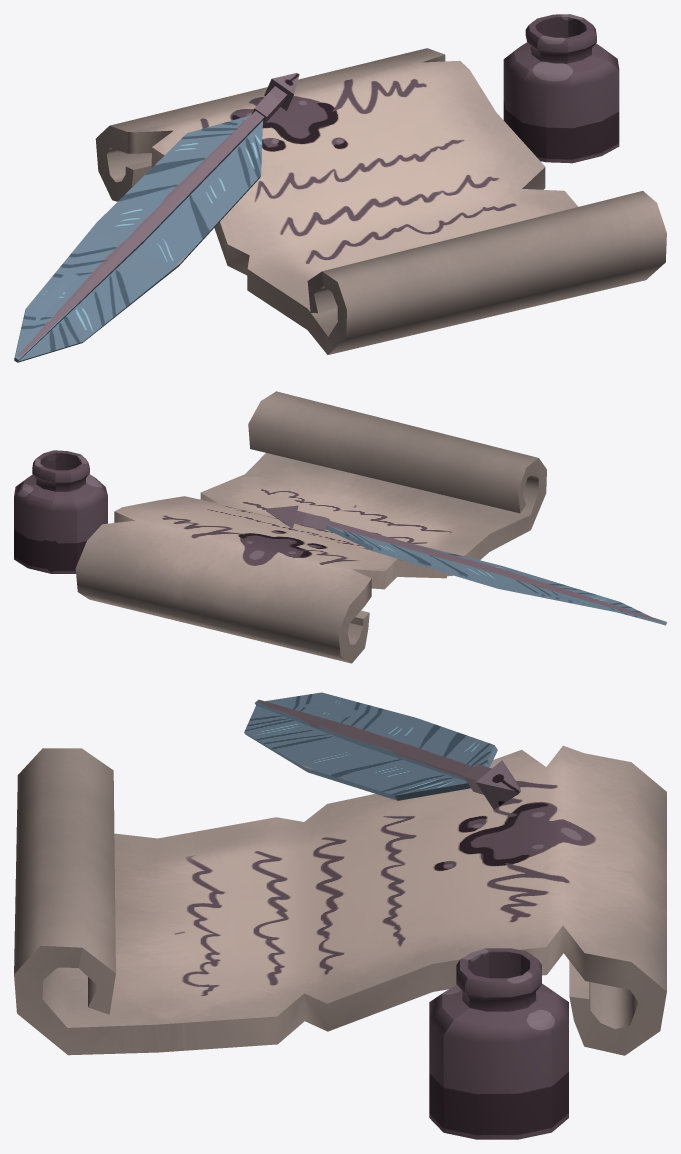
File: PaperAndInk.fbx
The picture shows the model from 3 angles, top to bottom: view 1: azimuth 30°, elevation 25°; view 2: azimuth 150°, elevation 25°; view 3: azimuth 270°, elevation 25°; orthographic projection. The views are drawn at different scales.
Visible parts, largest first — view 1: pCube12; view 2: pCube12; view 3: pCube12.
Part boxes in pixels (bbox=[...]): pCube12: bbox=[14, 14, 666, 362]; pCube12: bbox=[14, 391, 666, 663]; pCube12: bbox=[14, 692, 666, 1139].
Bounding box in the file's own units: 127 × 23.07 × 81.17.
